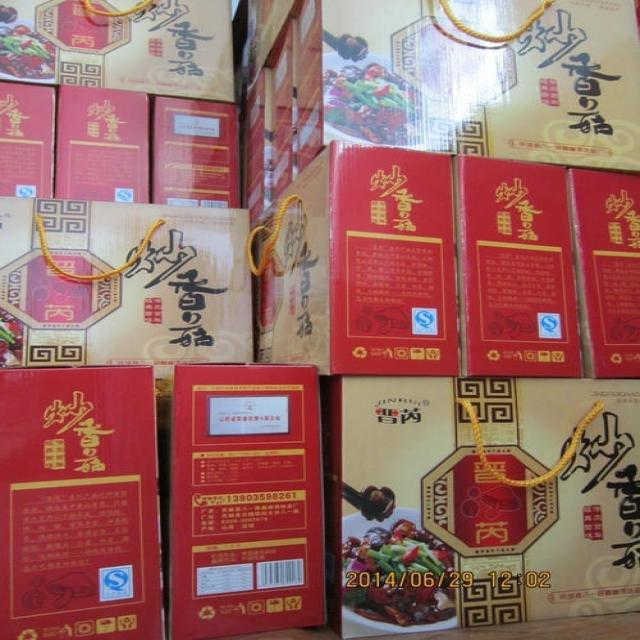box: (291, 0, 639, 175), (0, 197, 255, 397), (250, 142, 460, 378), (1, 368, 166, 639), (169, 365, 326, 639), (321, 377, 460, 639), (457, 157, 583, 379), (0, 1, 236, 102), (571, 169, 639, 379), (55, 87, 153, 206), (153, 98, 242, 210), (0, 83, 55, 201), (270, 22, 298, 199), (242, 0, 294, 93), (241, 66, 270, 214)
